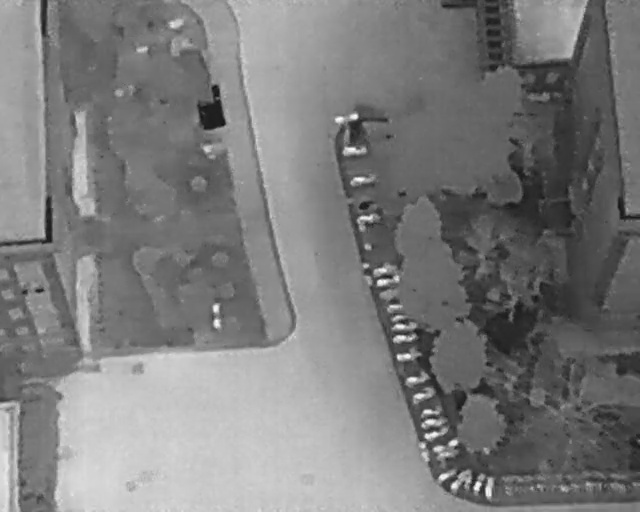Bicycle: (447, 466, 474, 498), (406, 382, 439, 408), (403, 367, 431, 391), (435, 460, 460, 485), (422, 423, 450, 443), (340, 140, 368, 158), (348, 171, 379, 187), (390, 329, 419, 346), (420, 413, 448, 430), (375, 274, 403, 290), (391, 317, 418, 333), (471, 471, 488, 496), (373, 262, 401, 277), (395, 348, 421, 364), (422, 403, 445, 418), (483, 476, 496, 502), (356, 212, 382, 225), (390, 313, 411, 324), (387, 305, 407, 313)
Person: (212, 300, 222, 317), (212, 314, 221, 330)
